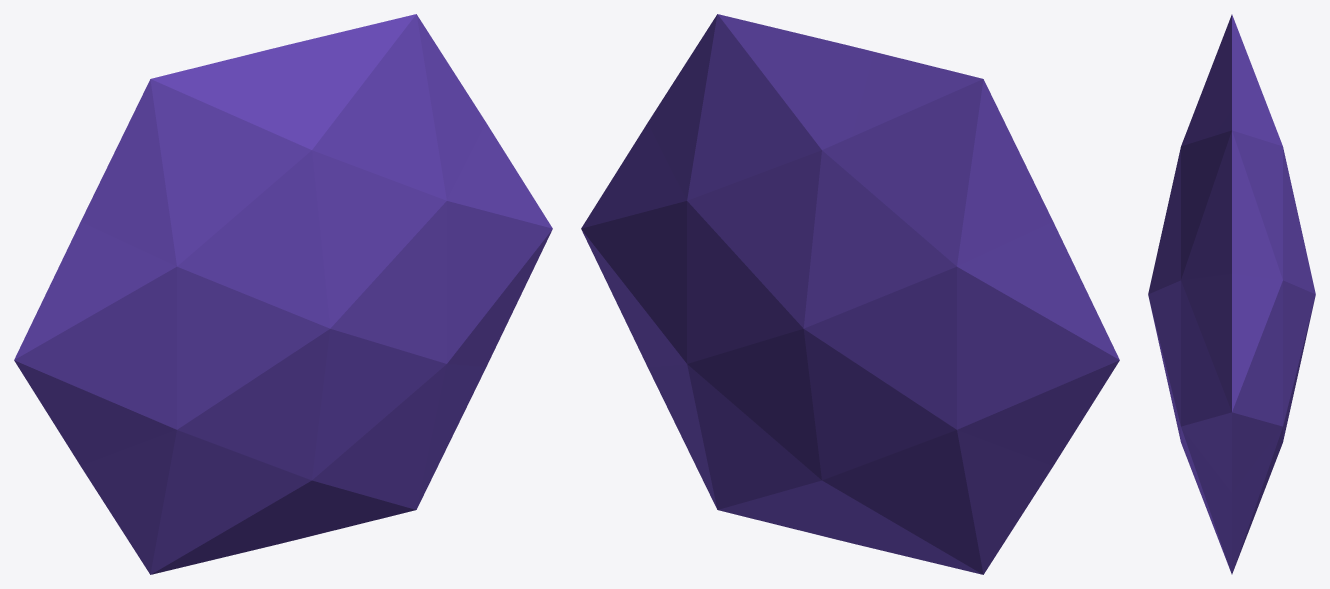
The model's file is Gem_10.fbx.
3 views of the same model, side by side, from view 1: azimuth 30°, elevation 25°; view 2: azimuth 150°, elevation 25°; view 3: azimuth 270°, elevation 25° (orthographic). The views are drawn at different scales.
Parts seen in each view (by area): view 1: Gem_10; view 2: Gem_10; view 3: Gem_10.
Boxes of the visible parts, x1=… form: Gem_10: x1=14, y1=14, x2=552, y2=574; Gem_10: x1=581, y1=14, x2=1119, y2=574; Gem_10: x1=1148, y1=14, x2=1315, y2=574.
Bounding box in the file's own units: 83.83 × 73.88 × 25.22.
